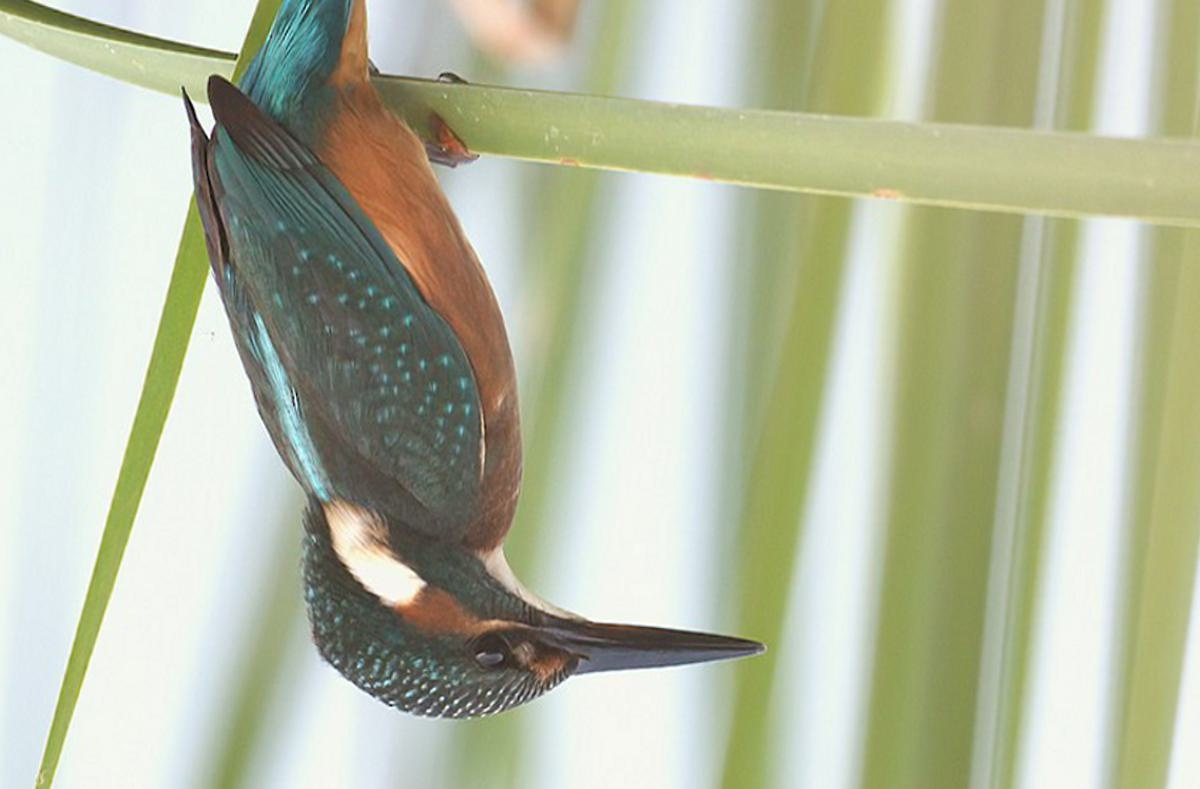kingfisher: (172, 5, 753, 704)
